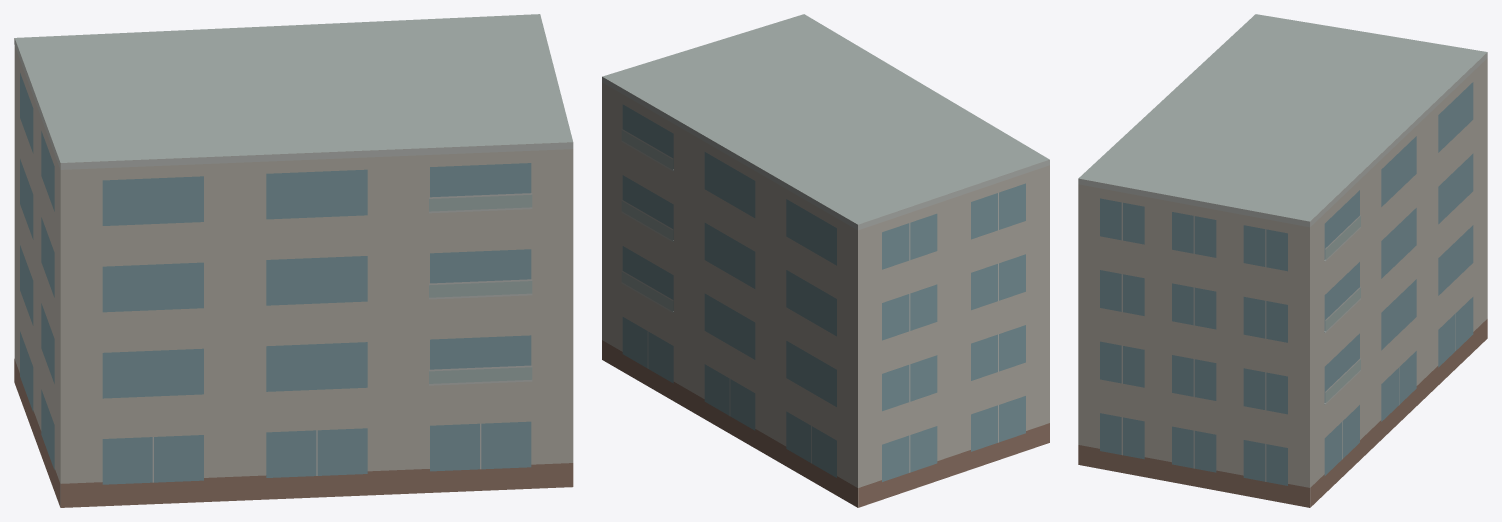
File: survey-upis-32697556.glb
3 renders of one model, left to right at view 1: azimuth 30°, elevation 25°; view 2: azimuth 150°, elevation 25°; view 3: azimuth 270°, elevation 25°, orthographic. The views are drawn at different scales.
Parts seen in each view (by area): view 1: survey-upis-32697556.tmp; view 2: survey-upis-32697556.tmp; view 3: survey-upis-32697556.tmp.
Boxes of the visible parts, bbox=[...] form: survey-upis-32697556.tmp: bbox=[14, 14, 573, 507]; survey-upis-32697556.tmp: bbox=[602, 14, 1049, 507]; survey-upis-32697556.tmp: bbox=[1078, 14, 1487, 507].
Size of the model in its own units: 18.98 by 12.2 by 15.82.
